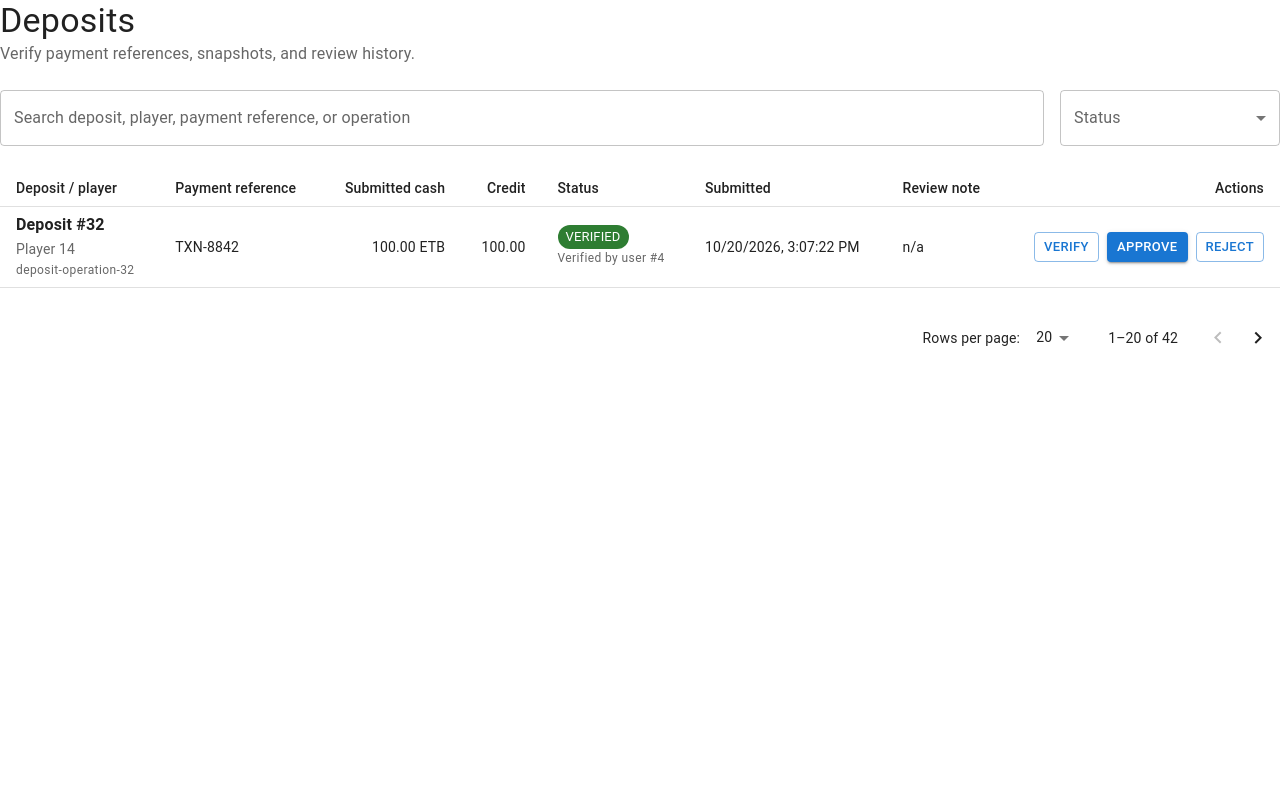
it: DepositsPage › shows a deposit review API failure
This screenshot has width=1280, height=800.
Check: the row with test id "deposit-row-32" is shown, box [0,206,1279,287]
Click the button with test id "deposit-approve-32". click: [1147, 247]
box: [1107,232,1188,262]
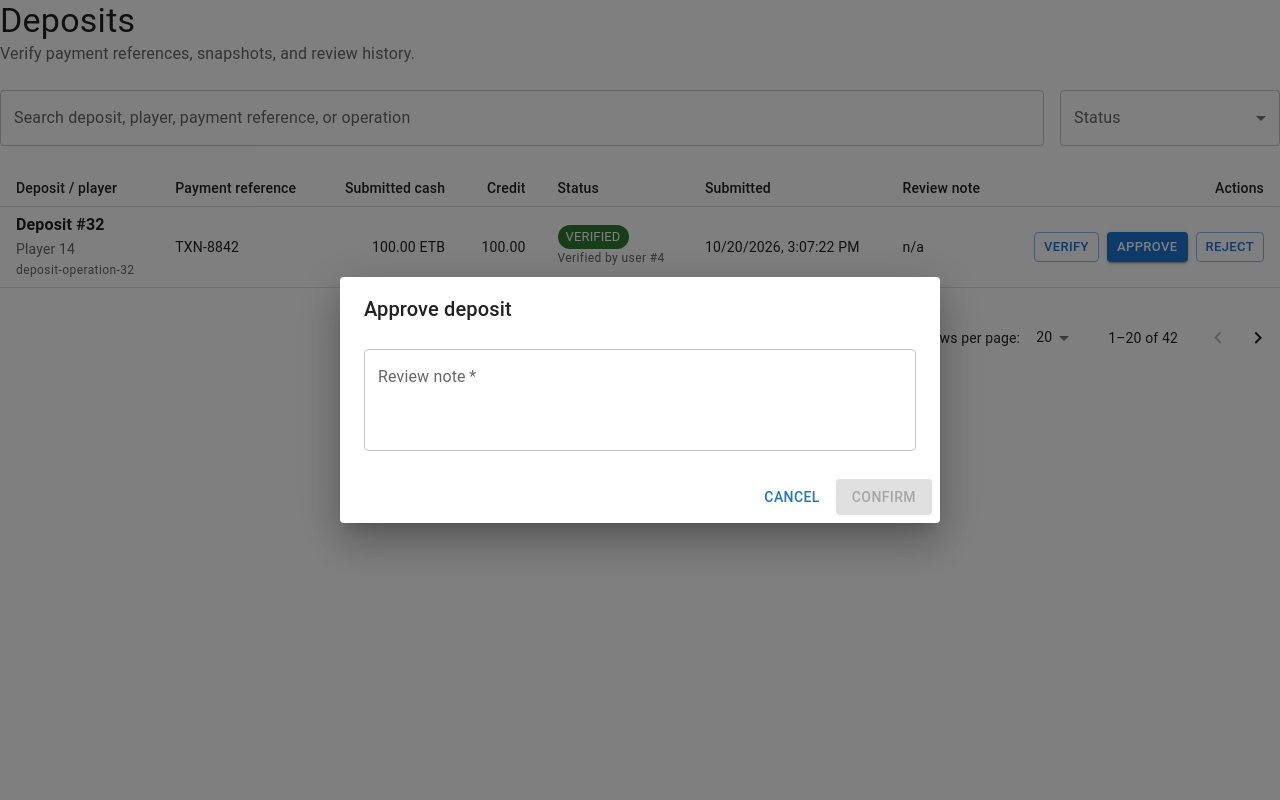
Type "Payment verified" into the text box labelled "Review note". click: [640, 400]
box: [378,365,902,434]
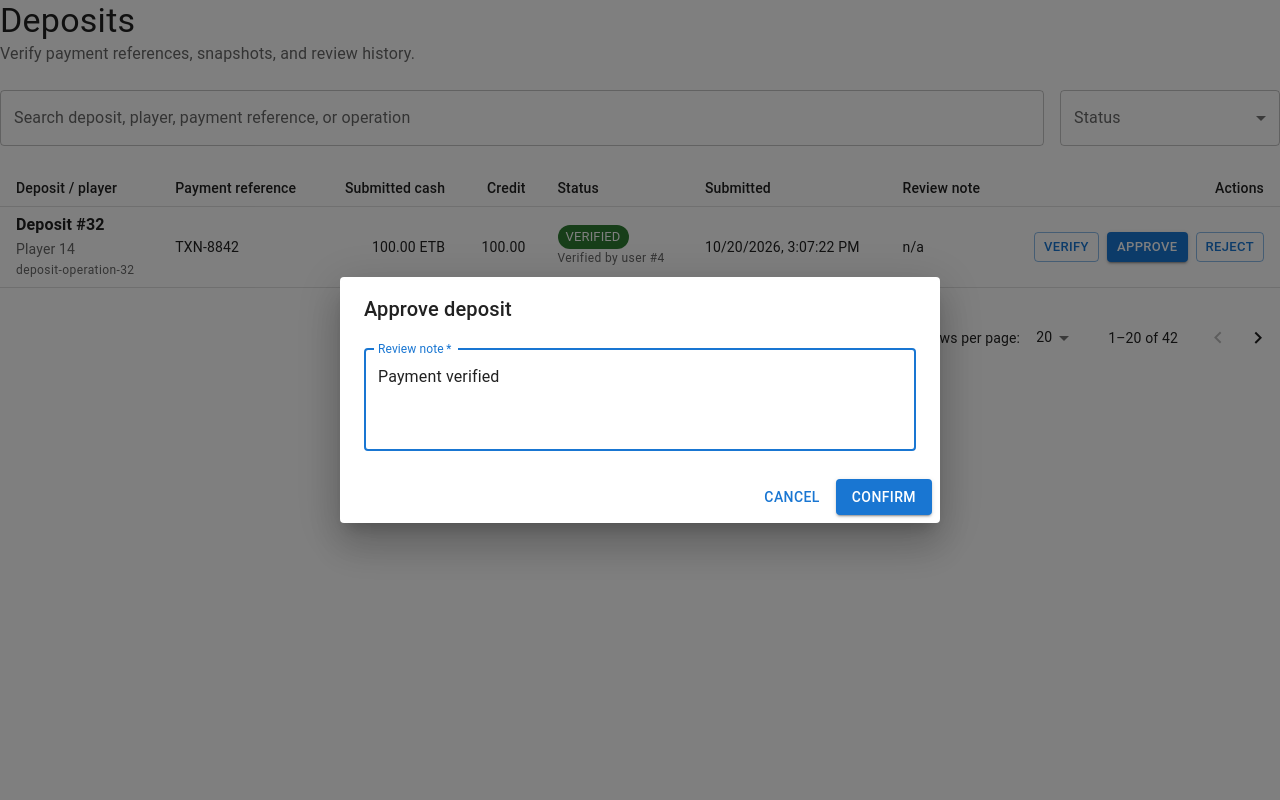
Click the button "Confirm". click: [884, 497]
box: [836,479,932,515]
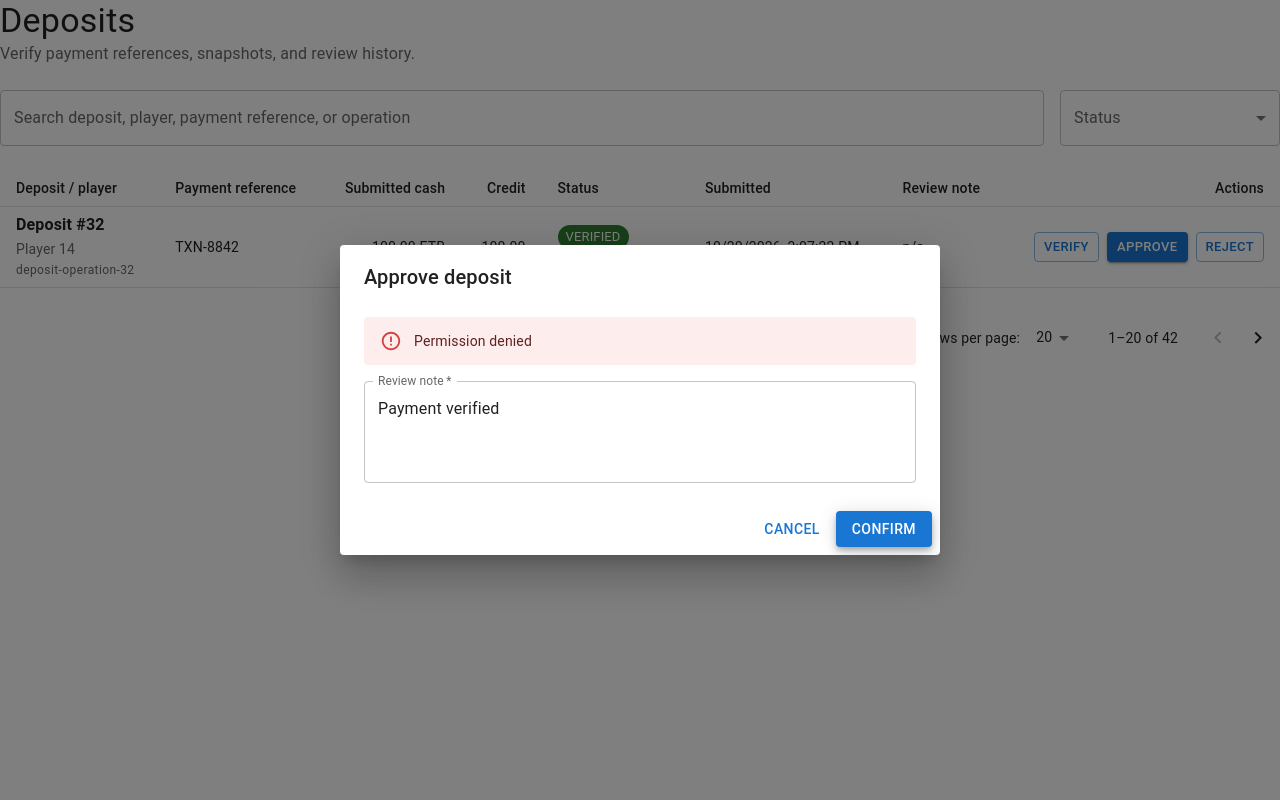
Check: the message reads "Permission denied", box [414,333,532,349]
